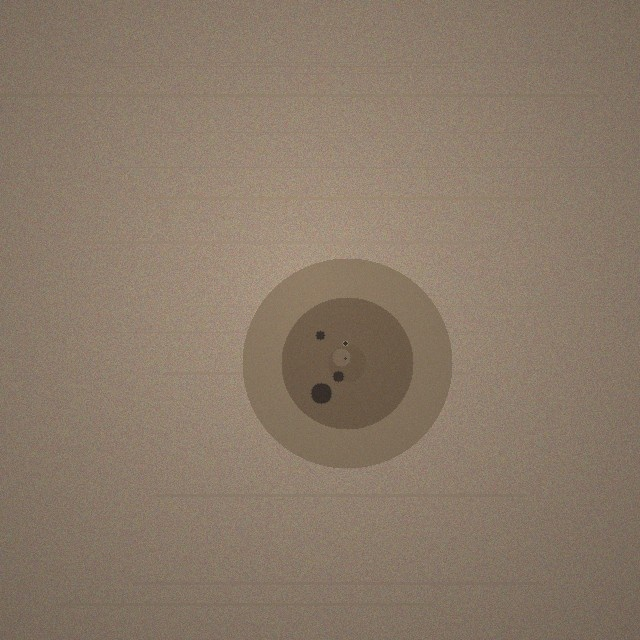shrinkage: (242, 258, 452, 468)
